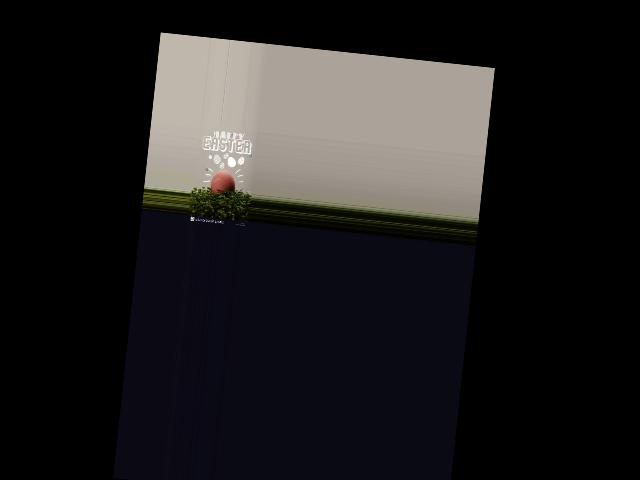egg: (210, 169, 237, 195)
